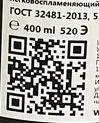qrcode: (7, 36, 88, 117)
